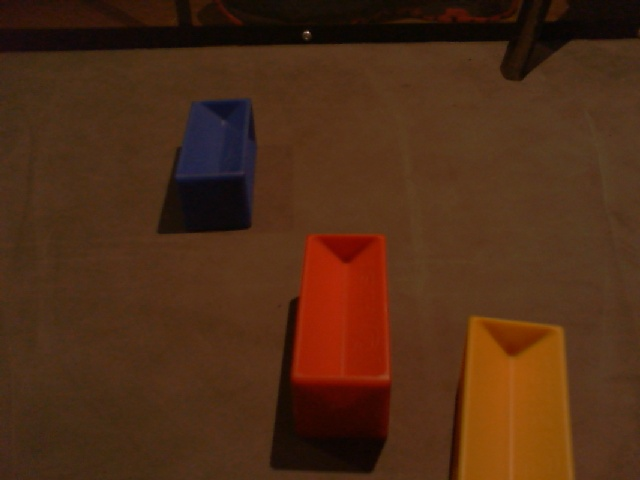BlueSample: (172, 96, 257, 233)
RedSample: (289, 231, 394, 439)
YellowSample: (450, 312, 577, 480)
